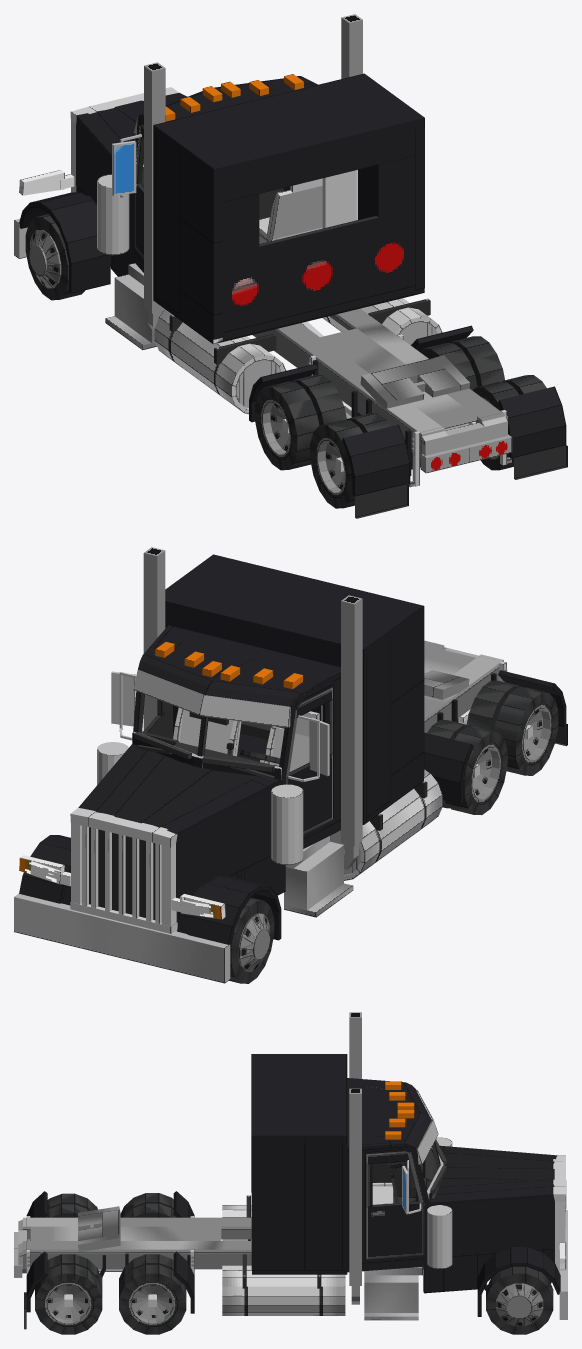
Rendered from truck.glb.
The picture shows the model from 3 angles, top to bottom: view 1: azimuth 30°, elevation 25°; view 2: azimuth 150°, elevation 25°; view 3: azimuth 270°, elevation 25°; orthographic projection. The views are drawn at different scales.
Visible parts, largest first — view 1: bone28 (×9), bone22 (×4), chasis (×4), ffr5 (×5), exhaust (×2), ffr6 (×3), bone16 (×4), front (×3), bone11 (×3), locktrailer (×4), hexadecagon2 (×3), head (×2) (+8 smaller); view 2: bone28 (×7), front (×10), bumper, front2 (×11), exhaust (×2), head (×5), hexadecagon2 (×4), bone17 (×2), p2 (×2), chasis (×3), bone22, door2 (+13 smaller); view 3: bone28 (×7), front (×10), chasis (×4), hexadecagon32 (×5), door1 (×2), exhaust (×2), head (×4), bone20 (×2), locktrailer (×2), door2, hexadecagon31, bumper (+4 smaller).
Boxes of the visible parts, left/top/right/bottom form: bone28 (×9): left=153, top=73, right=424, bottom=343; bone22 (×4): left=223, top=130, right=415, bottom=332; chasis (×4): left=253, top=308, right=504, bottom=457; ffr5 (×5): left=355, top=386, right=567, bottom=518; exhaust (×2): left=144, top=14, right=362, bottom=313; ffr6 (×3): left=342, top=424, right=410, bottom=496; bone16 (×4): left=50, top=200, right=110, bottom=293; front (×3): left=76, top=108, right=135, bottom=204; bone11 (×3): left=420, top=421, right=512, bottom=473; locktrailer (×4): left=360, top=357, right=460, bottom=411; hexadecagon2 (×3): left=154, top=309, right=245, bottom=397; head (×2): left=170, top=96, right=356, bottom=228; bone28 (×7): left=165, top=554, right=424, bottom=824; front (×10): left=78, top=748, right=285, bottom=920; bumper: left=14, top=893, right=230, bottom=983; front2 (×11): left=70, top=812, right=177, bottom=933; exhaust (×2): left=143, top=547, right=362, bottom=846; head (×5): left=165, top=627, right=340, bottom=819; hexadecagon2 (×4): left=357, top=774, right=442, bottom=872; bone17 (×2): left=284, top=841, right=353, bottom=917; p2 (×2): left=133, top=669, right=290, bottom=727; chasis (×3): left=424, top=649, right=503, bottom=732; bone22: left=165, top=607, right=331, bottom=664; door2: left=285, top=754, right=332, bottom=834; bone28 (×7): left=251, top=1054, right=347, bottom=1274; front (×10): left=423, top=1146, right=557, bottom=1293; chasis (×4): left=23, top=1217, right=423, bottom=1269; hexadecagon32 (×5): left=222, top=1277, right=345, bottom=1315; door1 (×2): left=366, top=1151, right=424, bottom=1259; exhaust (×2): left=349, top=1012, right=361, bottom=1285; head (×4): left=347, top=1087, right=424, bottom=1272; bone20 (×2): left=364, top=1275, right=418, bottom=1320; locktrailer (×2): left=78, top=1210, right=120, bottom=1252; door2: left=372, top=1163, right=416, bottom=1197; hexadecagon31: left=222, top=1270, right=345, bottom=1277; bumper: left=559, top=1210, right=567, bottom=1319.
Bounding box in the file's own units: 4.27 × 4.71 × 9.79.
Materials: 1 (1 with a texture image).
